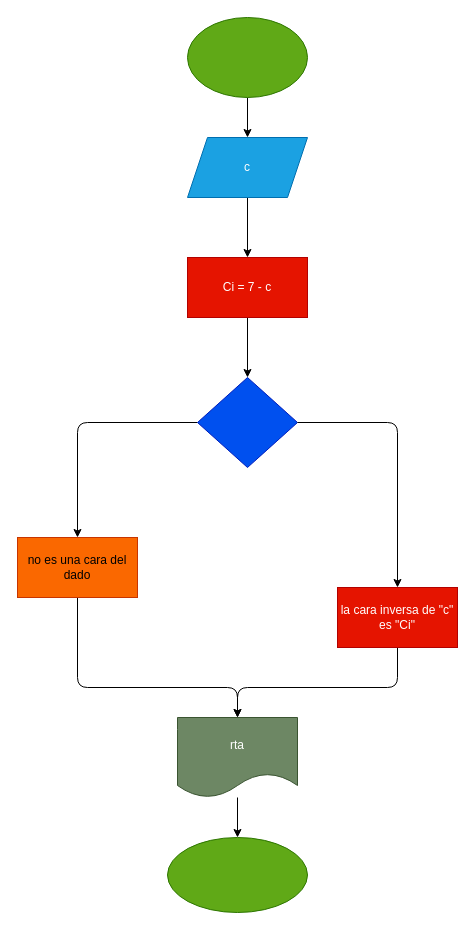
The diagram is 475 pixels wide and 930 high, and some of its shapes have lost their labels. The centre of each missing label's shape, as x and y in pixels:
"1 <= c <= 6" goes at (247,422).
"fin" goes at (237,874).
"inico" goes at (247,57).
